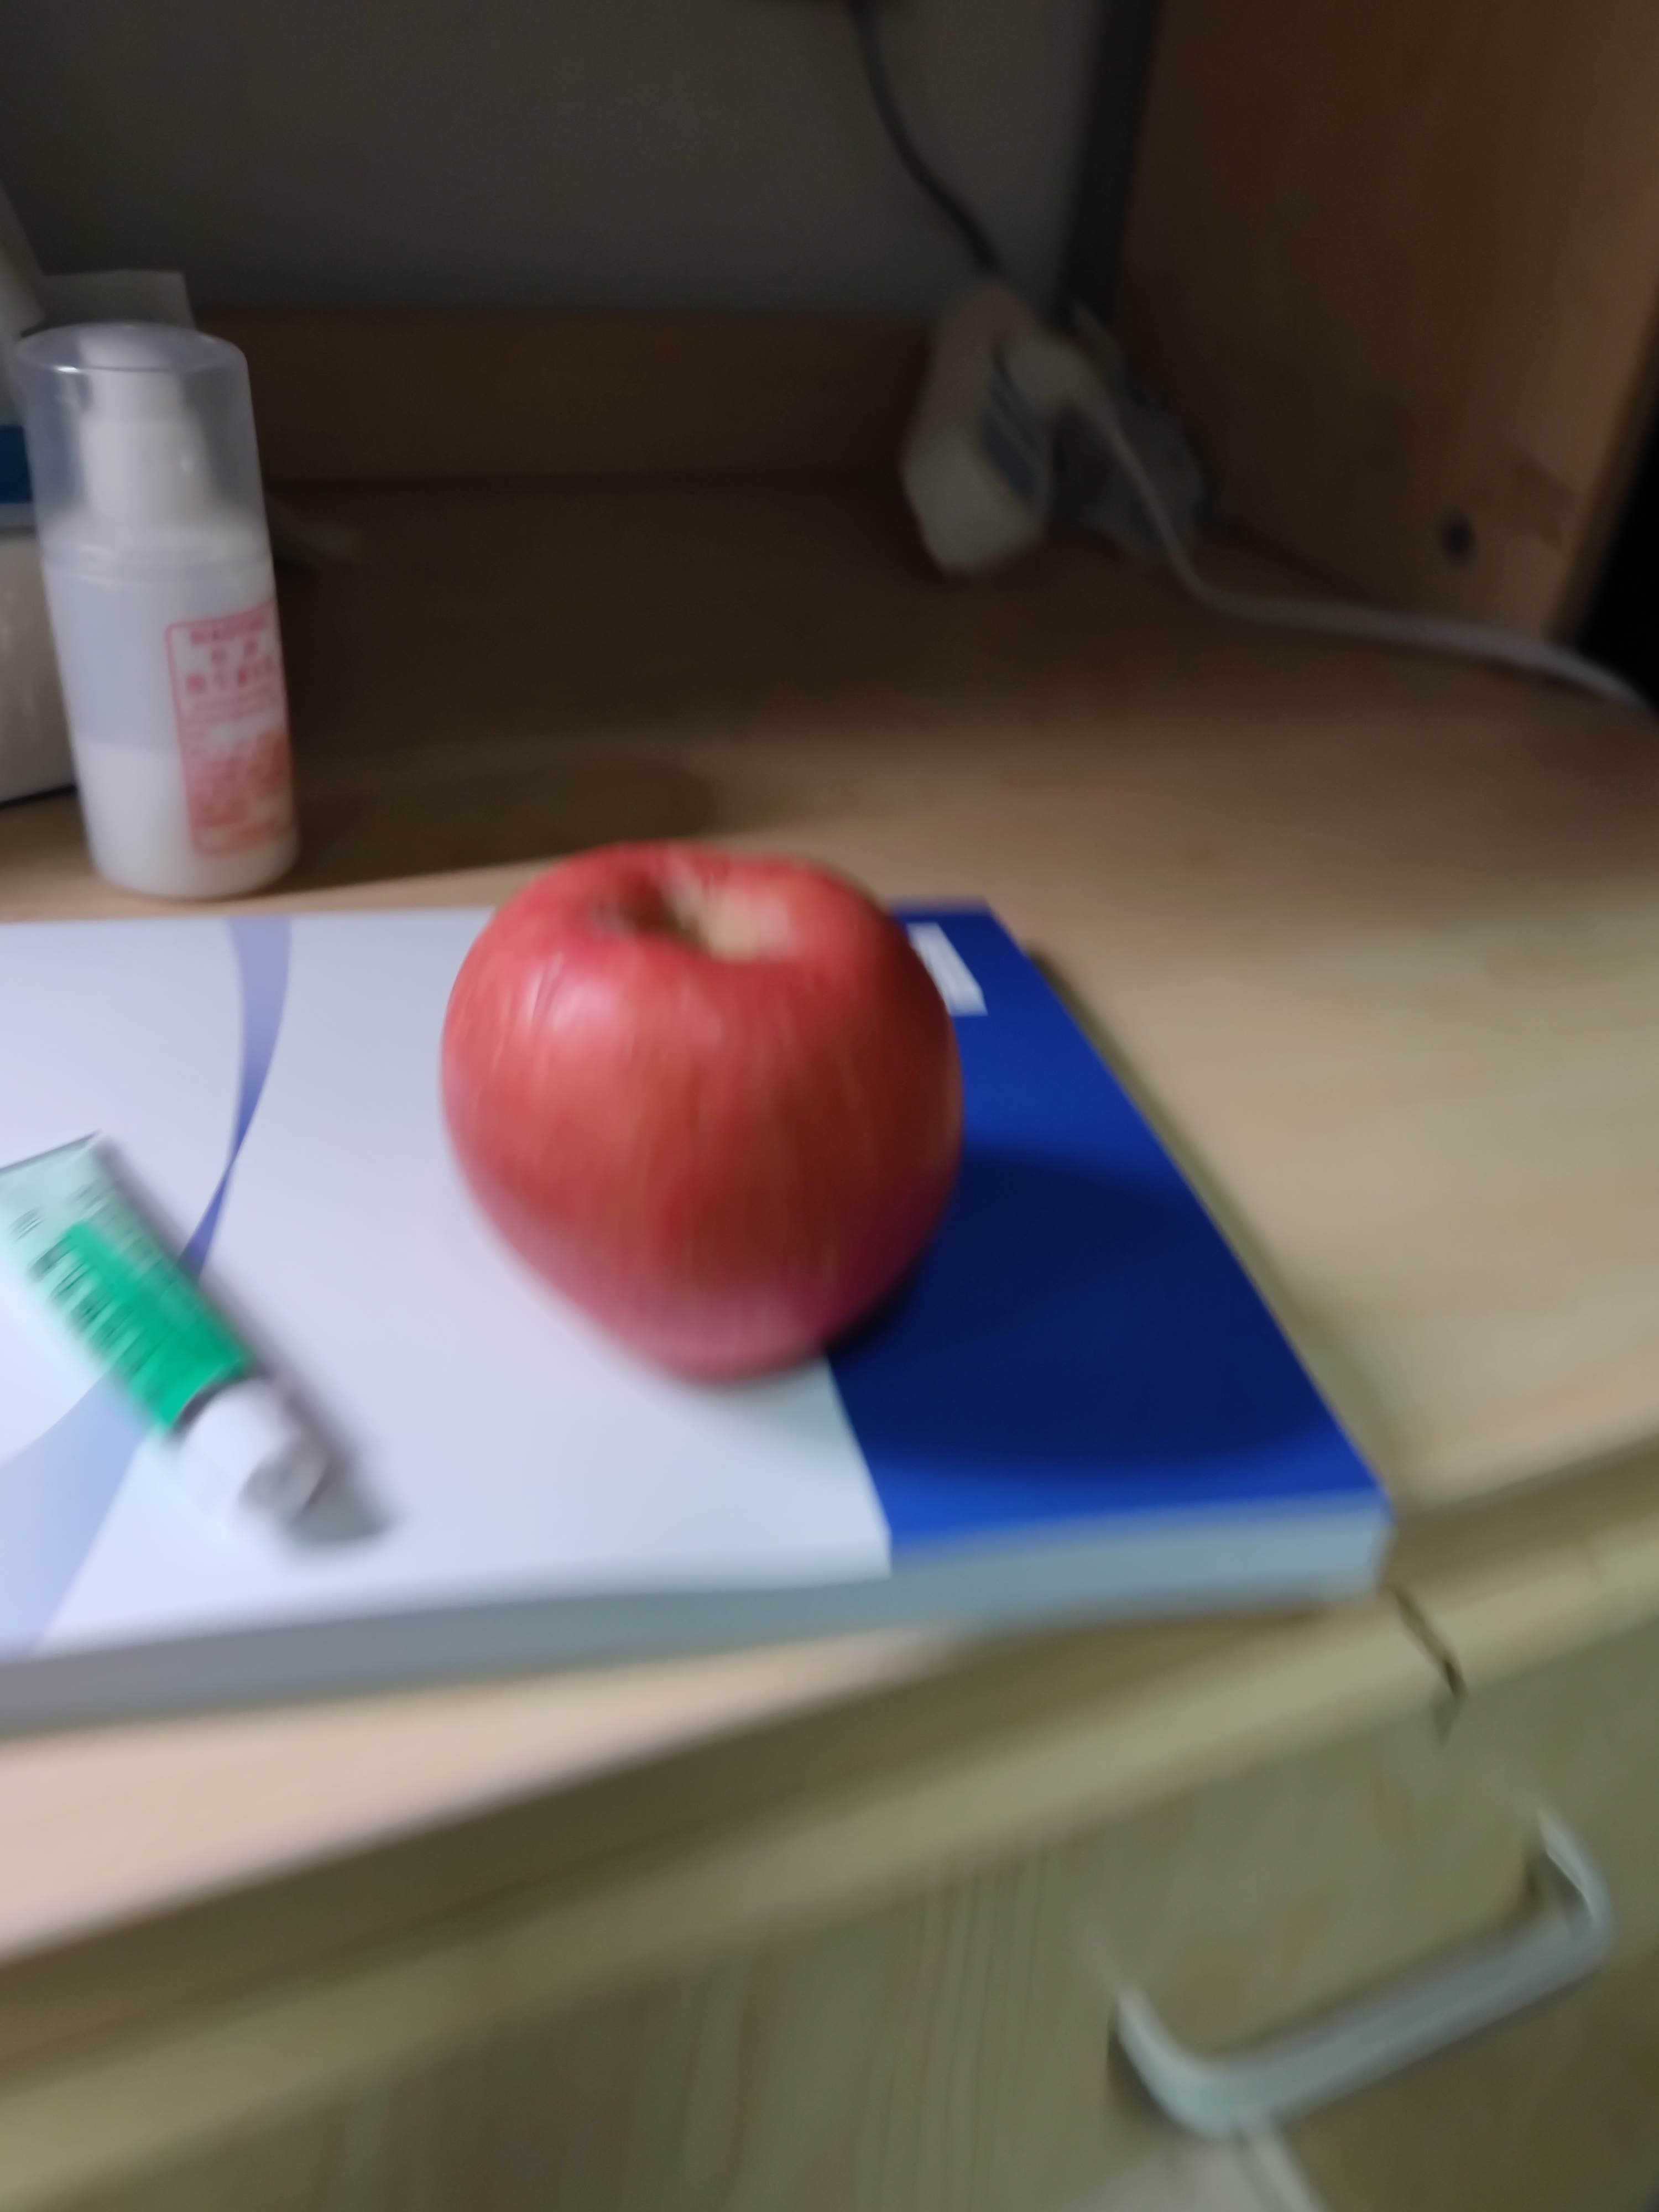apple: (436, 840, 972, 1392)
